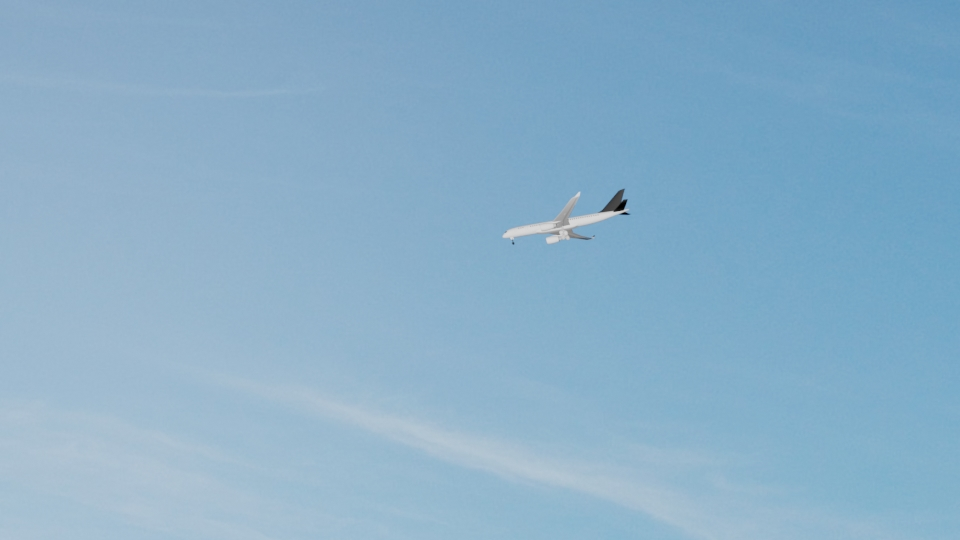plane: (498, 189, 631, 245)
